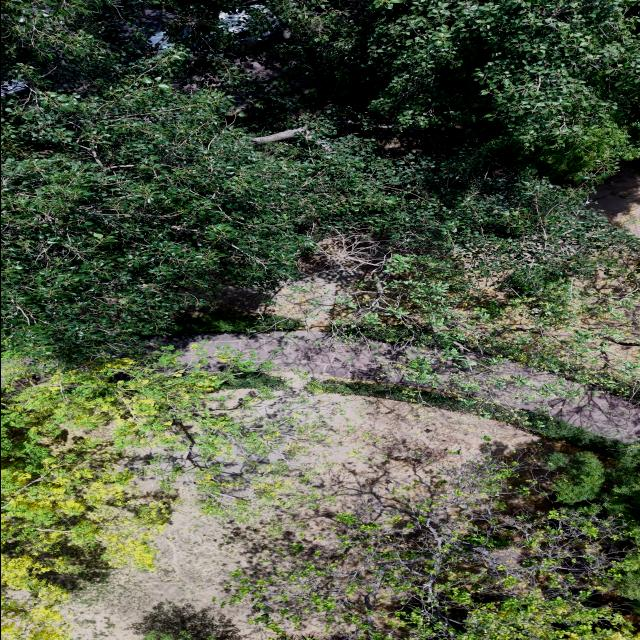DRY_AREA: (65, 390, 538, 639), (66, 394, 537, 639), (66, 394, 536, 639), (159, 250, 639, 441), (65, 487, 266, 639), (207, 233, 387, 328), (209, 237, 384, 329), (212, 237, 383, 328), (255, 234, 385, 328), (188, 265, 363, 329), (589, 159, 639, 235)
PATHWAYS: (154, 330, 639, 441)
VEGETATION_TREE: (1, 0, 639, 639), (1, 0, 639, 360), (1, 349, 290, 639), (236, 443, 639, 637), (232, 456, 638, 639), (1, 358, 217, 639), (333, 244, 639, 395), (129, 602, 238, 639), (174, 311, 303, 332)
